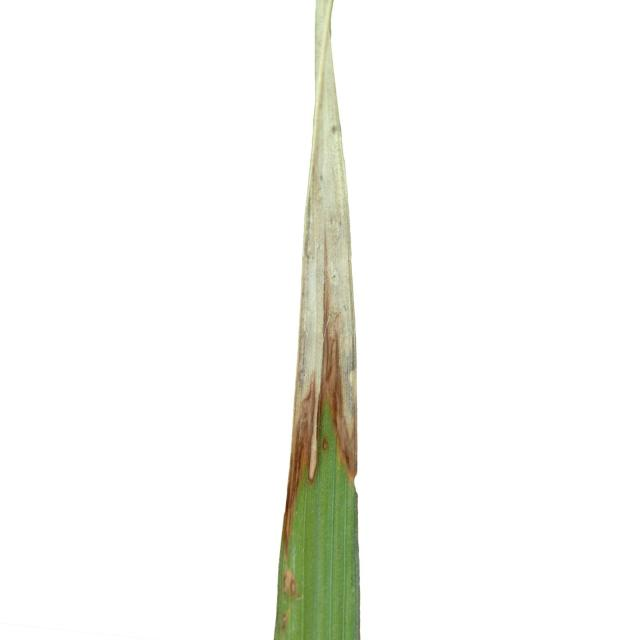Leaf scald: (154, 0, 470, 640)
